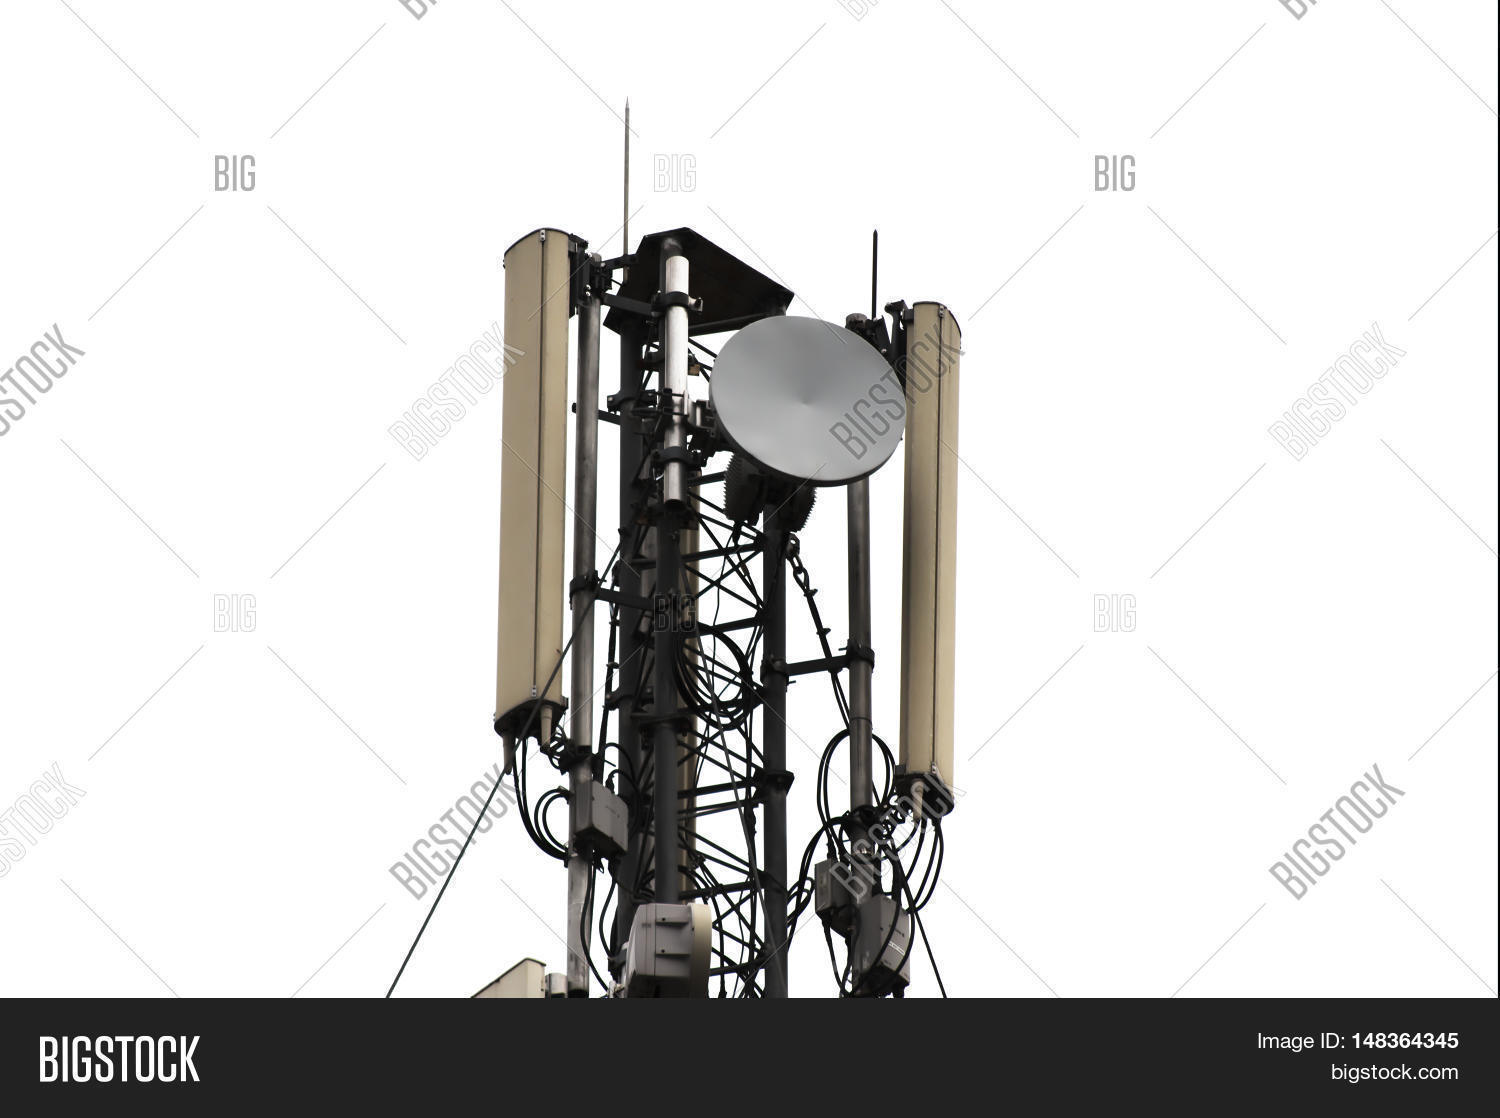sa: (478, 220, 596, 779), (879, 270, 977, 831), (704, 299, 907, 528)
